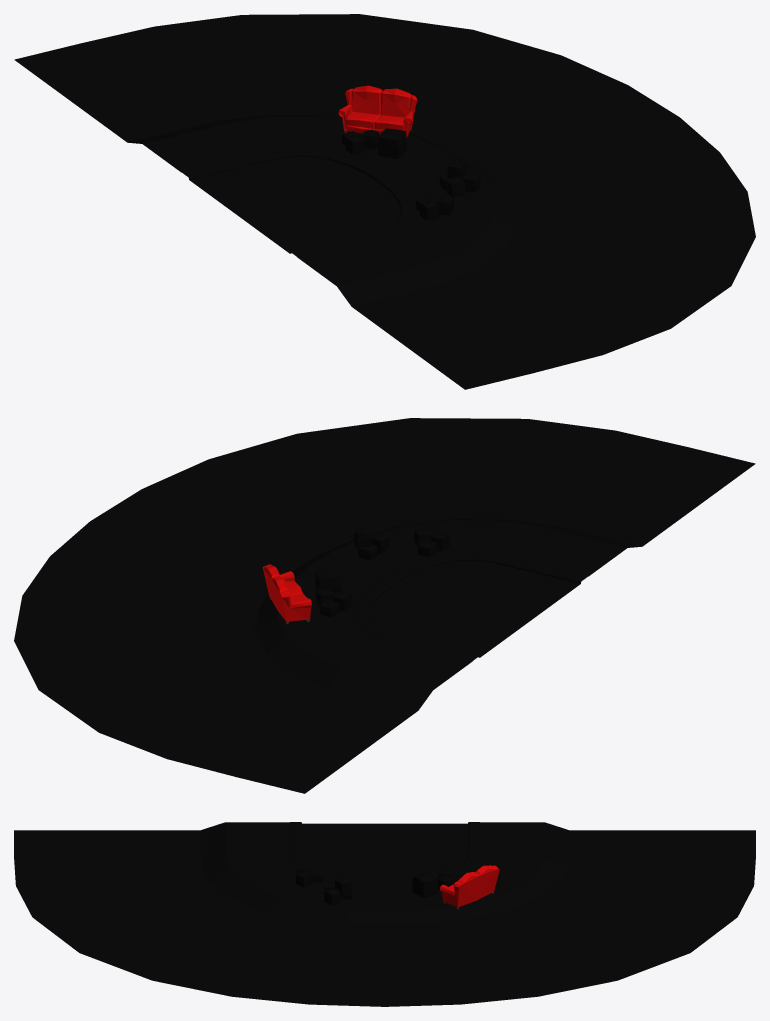
Rendered from Road_END.fbx.
3 renders of one model, top to bottom at view 1: azimuth 30°, elevation 25°; view 2: azimuth 150°, elevation 25°; view 3: azimuth 270°, elevation 25°, orthographic. The views are drawn at different scales.
Visible parts, largest first — view 1: Plane.015; view 2: Plane.015; view 3: Plane.015.
Boxes of the visible parts, x1,y1,x2,y2 form: Plane.015: [14, 14, 755, 389]; Plane.015: [14, 418, 755, 793]; Plane.015: [14, 822, 755, 1006].
Bounding box in the file's own units: 2332 × 243 × 4137.
